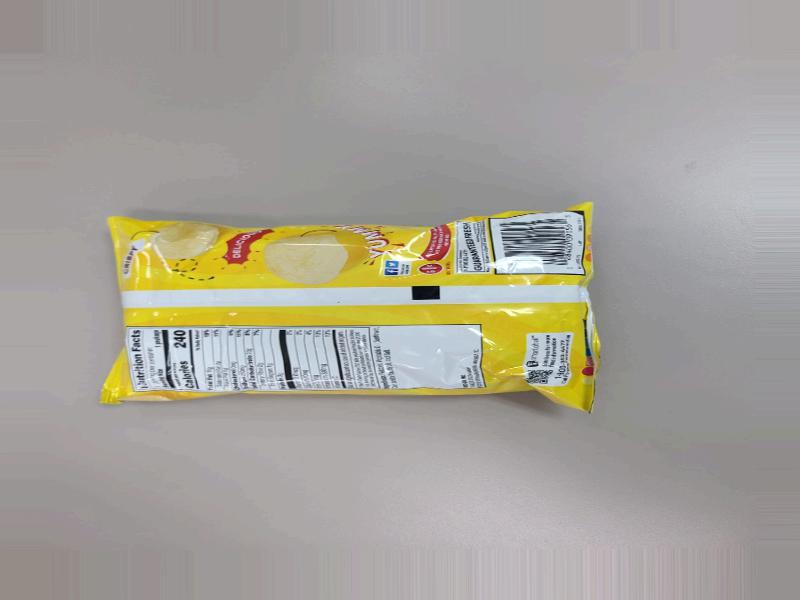lays: (102, 205, 581, 414)
